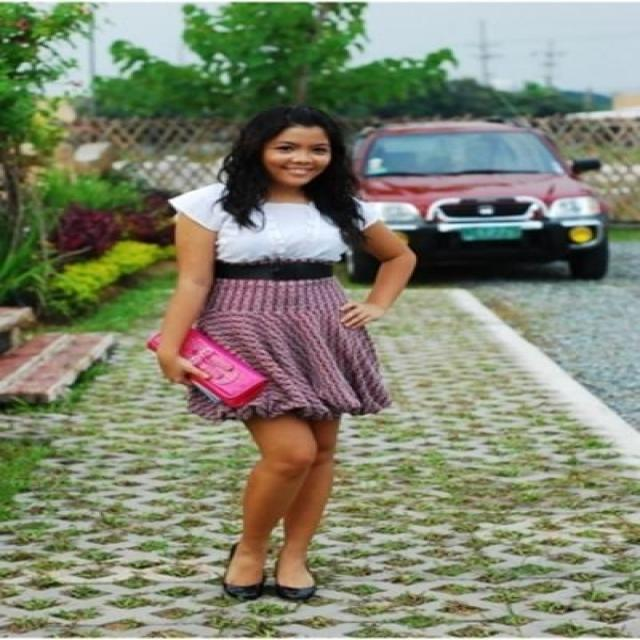bag: (179, 328, 267, 408)
shirt: (173, 184, 350, 262)
shoe: (216, 560, 312, 601)
skirt: (181, 269, 389, 434)
